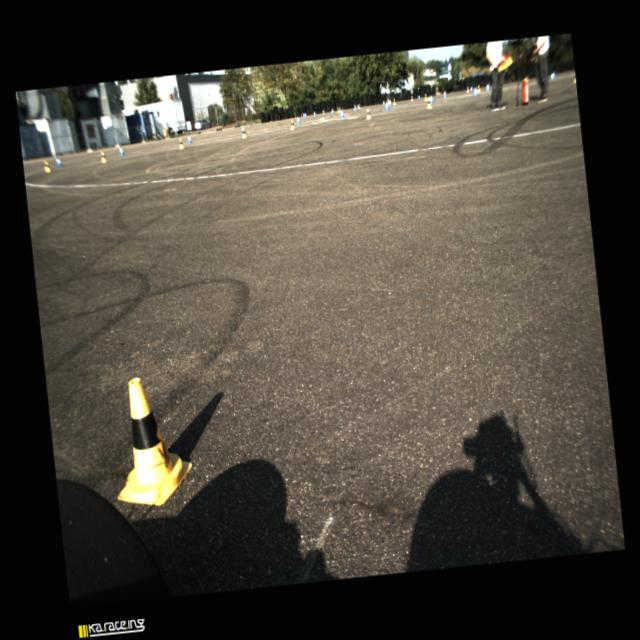blue_cone: (54, 156, 62, 166), (118, 146, 125, 156), (186, 134, 192, 144), (472, 86, 478, 96), (240, 125, 246, 134), (428, 94, 434, 103), (339, 109, 344, 118), (384, 102, 389, 110), (296, 116, 300, 124), (442, 90, 446, 98), (312, 110, 316, 116), (388, 99, 391, 106), (331, 108, 334, 114), (382, 100, 385, 105), (302, 111, 304, 118), (304, 112, 306, 118), (354, 104, 356, 110), (418, 94, 420, 100), (322, 109, 324, 114), (470, 86, 472, 91)
yellow_cone: (104, 372, 195, 510), (43, 159, 51, 173), (364, 108, 371, 120), (240, 127, 247, 138), (100, 151, 106, 163), (289, 119, 295, 130), (426, 97, 432, 108), (178, 138, 184, 148), (476, 84, 480, 93), (392, 98, 396, 106), (423, 94, 427, 100), (336, 106, 339, 113), (411, 95, 414, 101), (386, 98, 388, 105), (338, 106, 340, 112), (358, 103, 360, 109), (466, 86, 468, 92)
